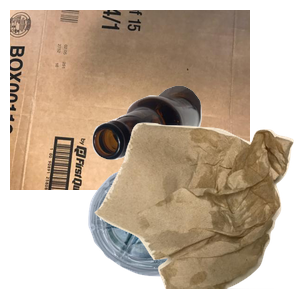cardboard: (10, 10, 250, 190)
glass: (90, 83, 300, 235)
plastic: (86, 163, 282, 300)
trash: (92, 120, 300, 300)
